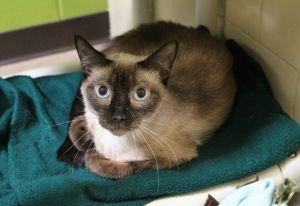siamese: (67, 29, 187, 138)
